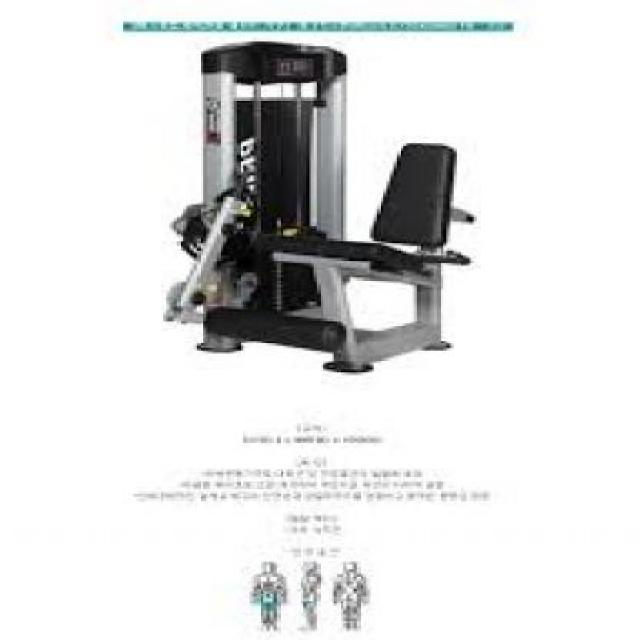leg extension: (145, 32, 503, 382)
